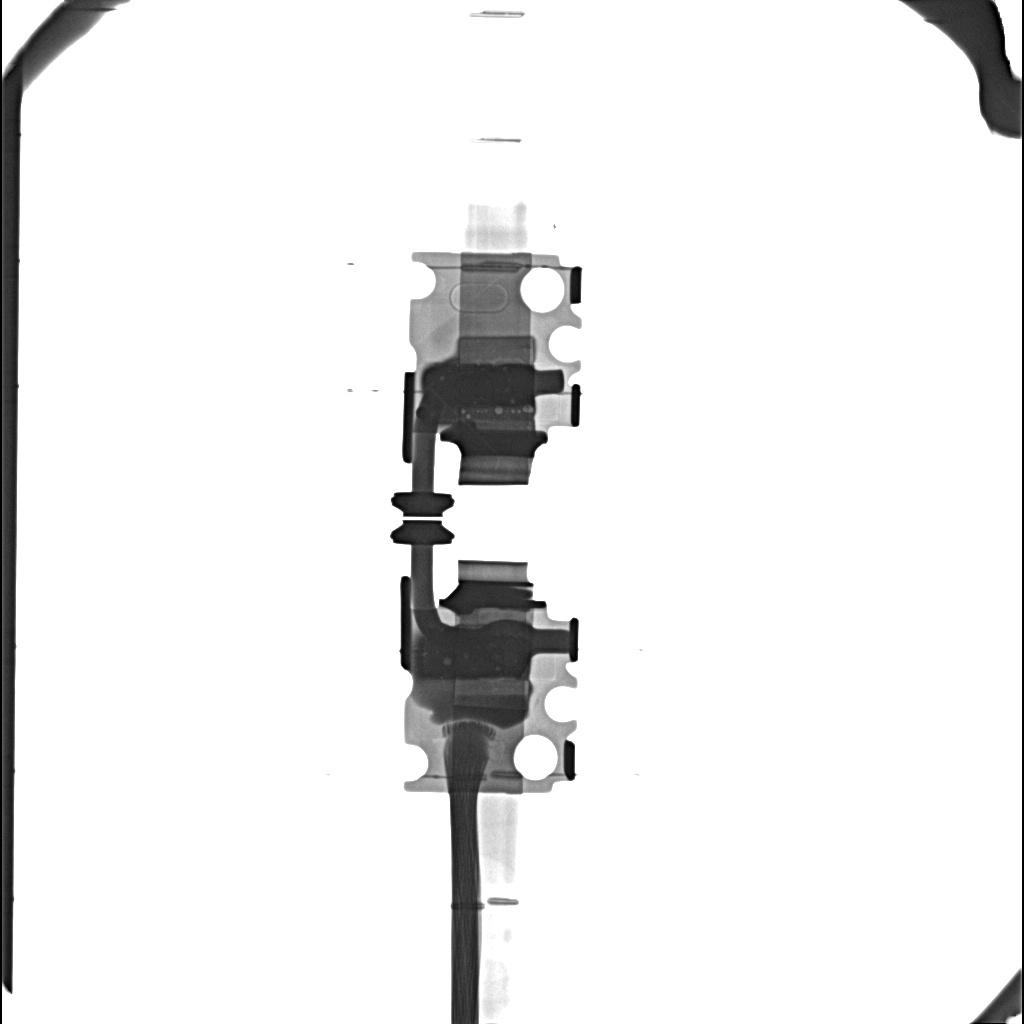气孔: (451, 680, 530, 711), (457, 336, 535, 363)
气泡: (495, 407, 503, 414)
水纹: (420, 627, 533, 677), (421, 364, 536, 408)
